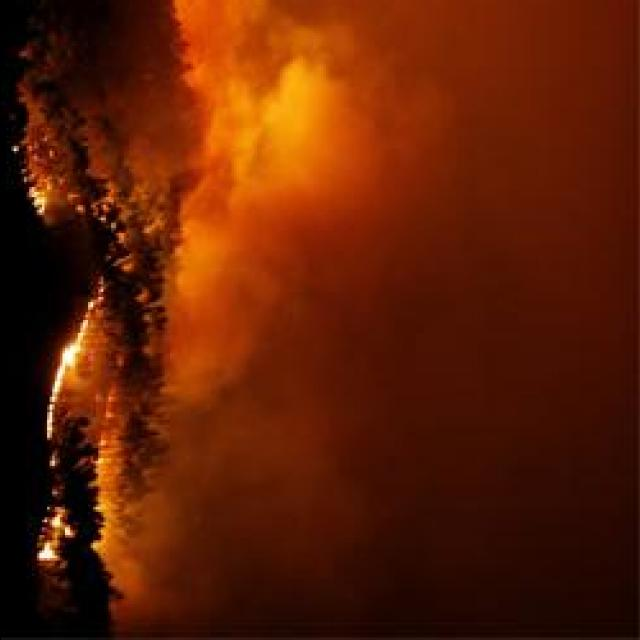fire: (52, 334, 86, 398)
smoke: (248, 407, 378, 582), (242, 56, 374, 210), (243, 0, 417, 108), (188, 0, 315, 146), (176, 241, 256, 397), (76, 121, 142, 145)
